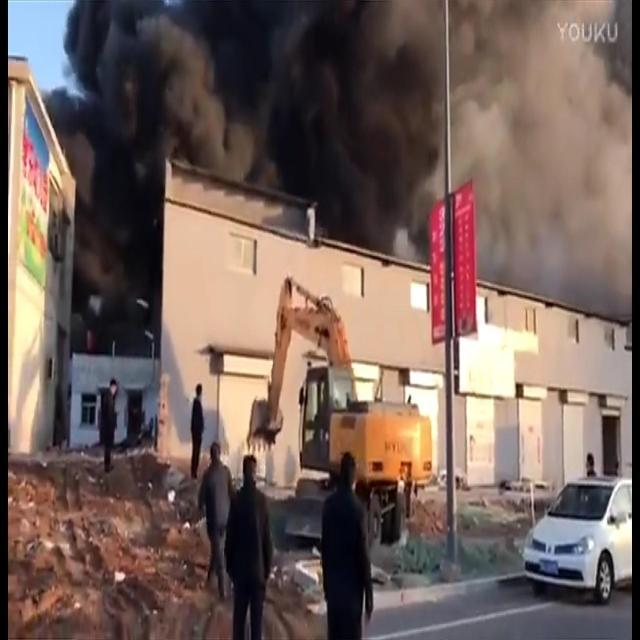Smoke: (37, 0, 632, 361)
